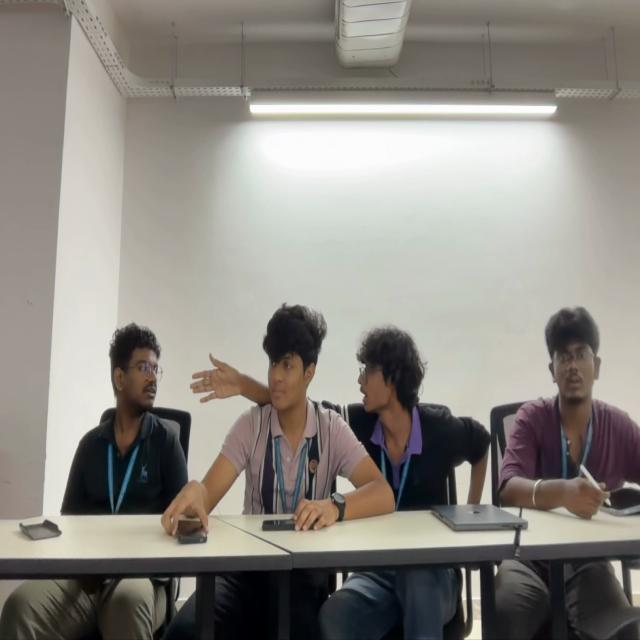Isolated: (500, 302, 640, 509)
socializing: (61, 309, 487, 513)
